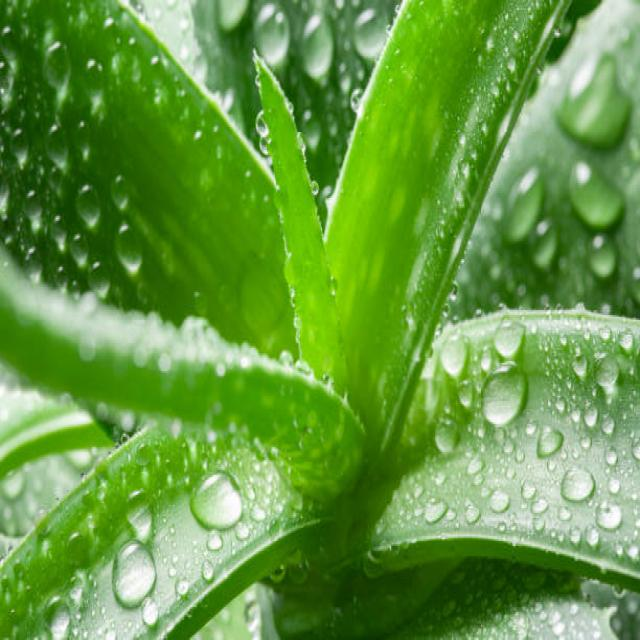AloeVera: (14, 25, 590, 568)
